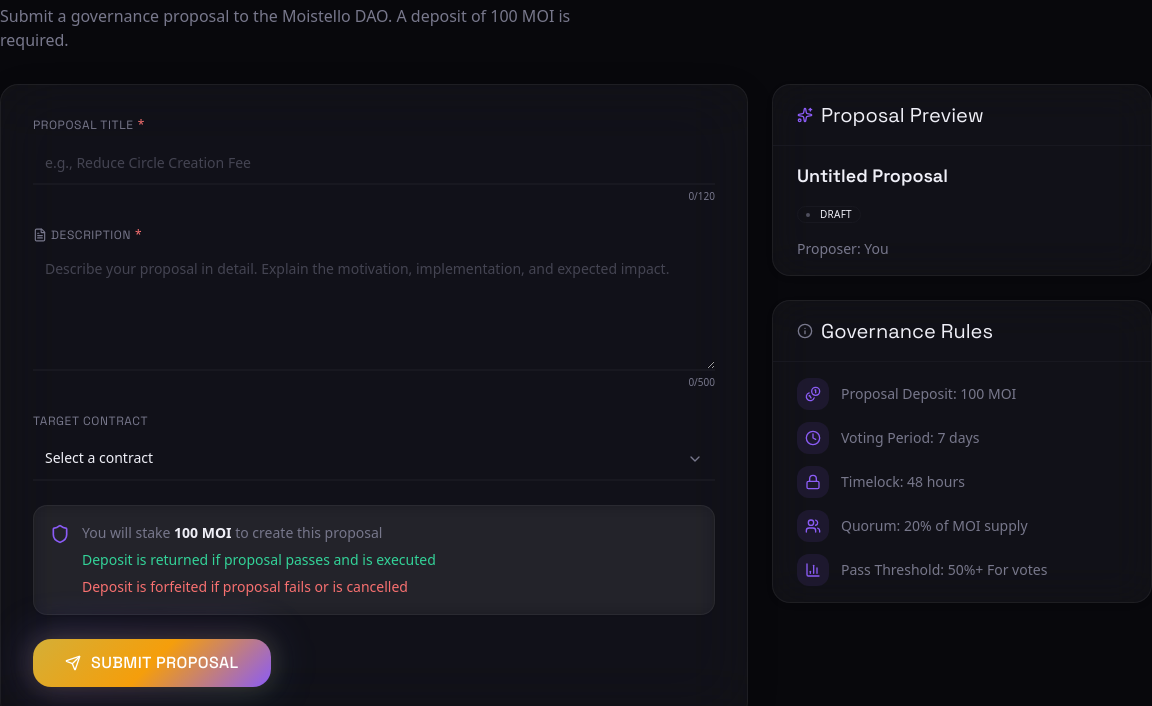
Proposal Create Page › submit button validates required fields and shows errors
(page scrolled)
Click the button "Submit Proposal" at [152, 663], box [33,639,271,687]
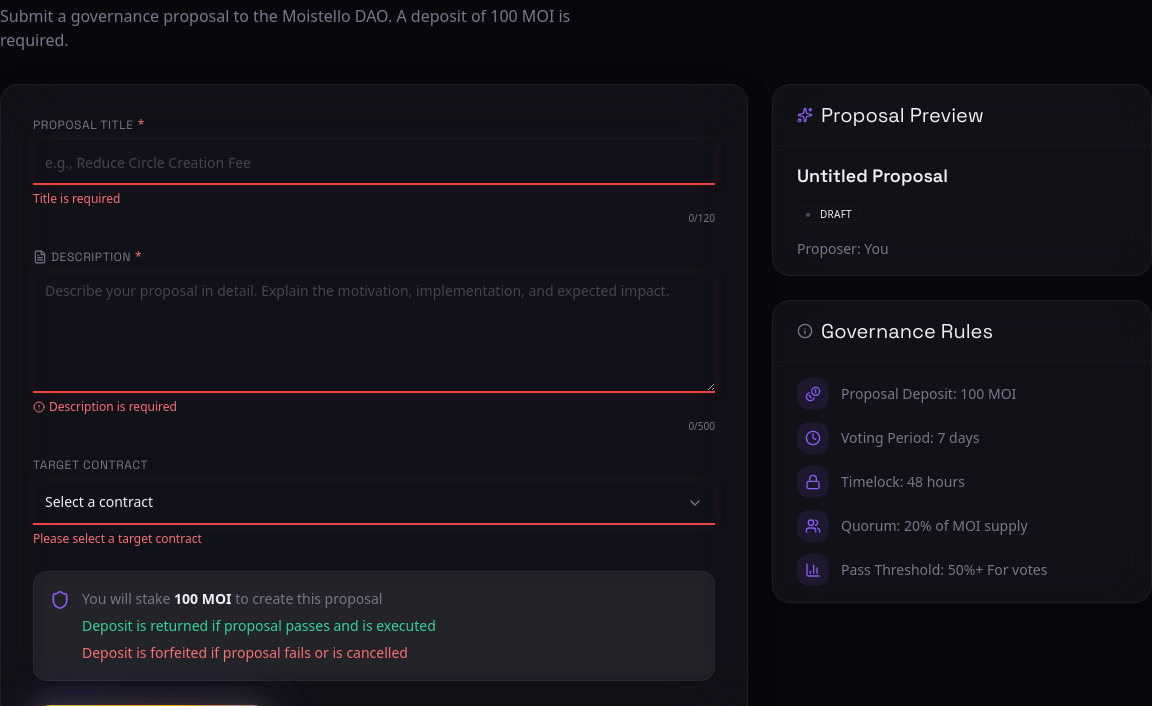
Check: the text "Title is required" is shown, box [33,190,120,207]
Check: the text "Description is required" is shown, box [33,398,177,415]
Check: the text "Please select a target contract" is shown, box [33,530,202,547]
